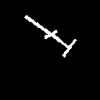double_crochet: (25, 15, 75, 56)
